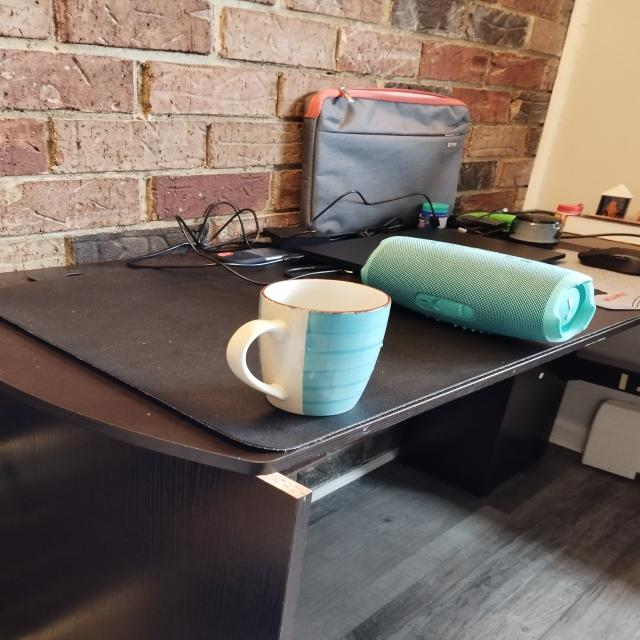Cup: (226, 272, 417, 427)
